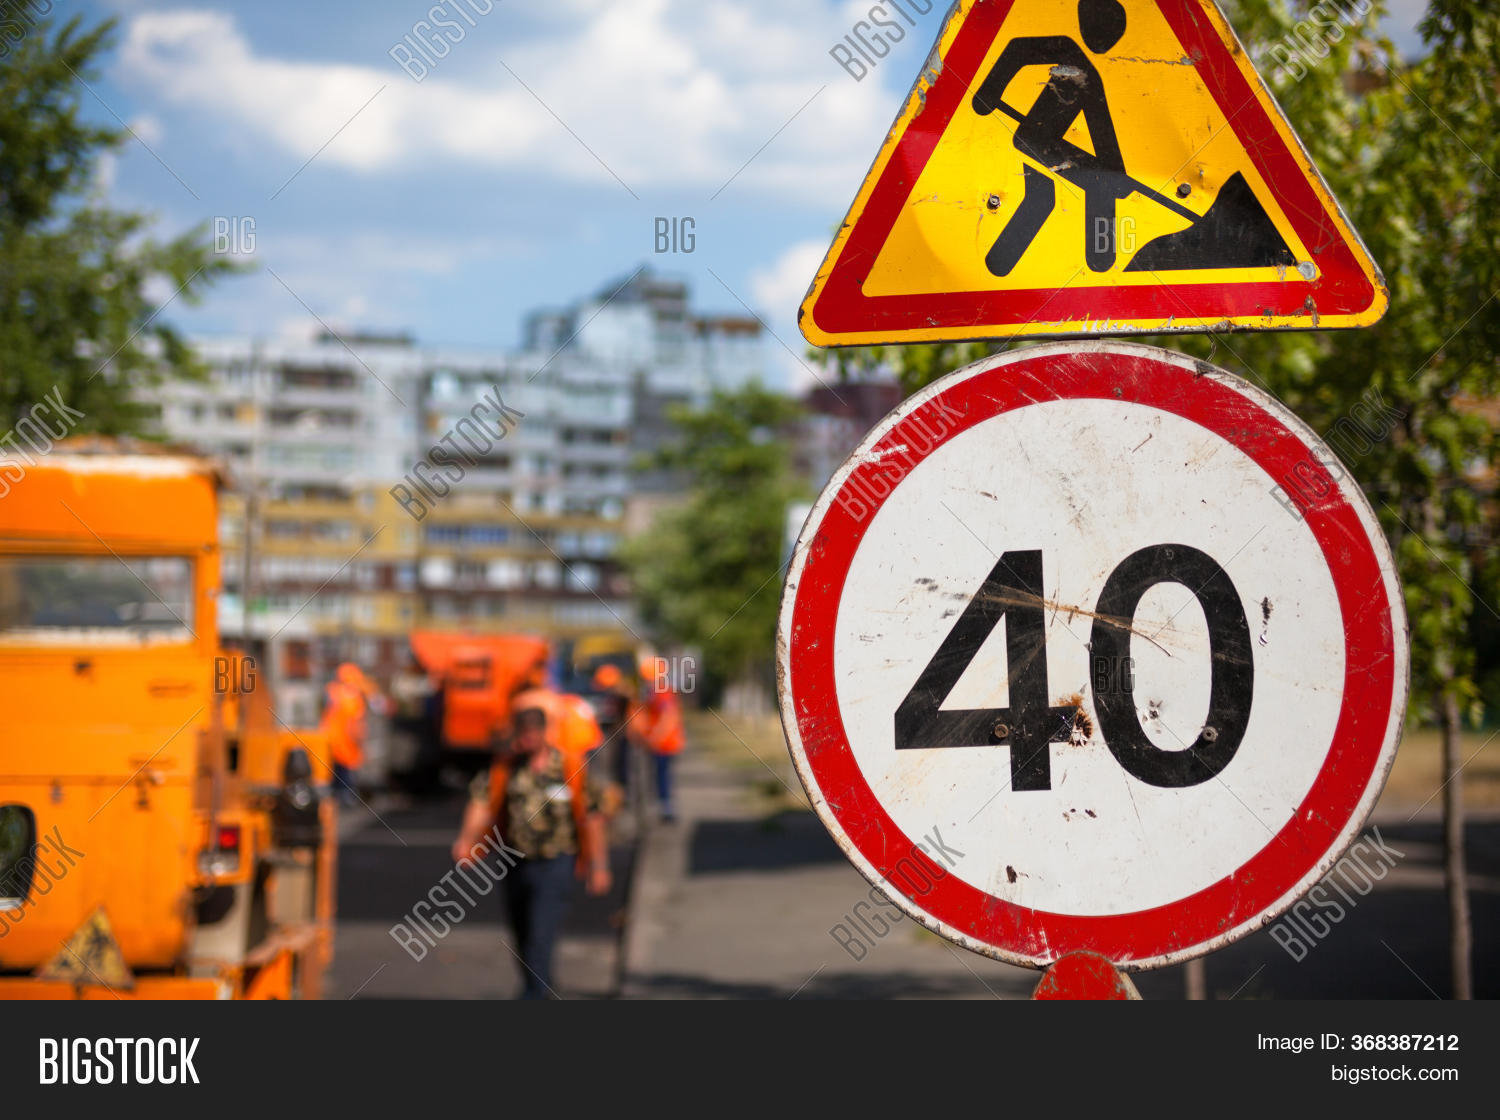40 Km/hr: (787, 351, 1399, 959)
